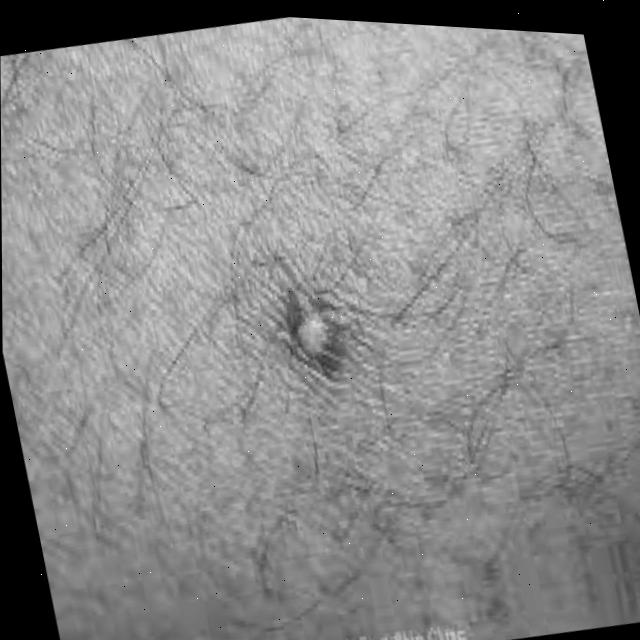Acne: (276, 292, 347, 353)
